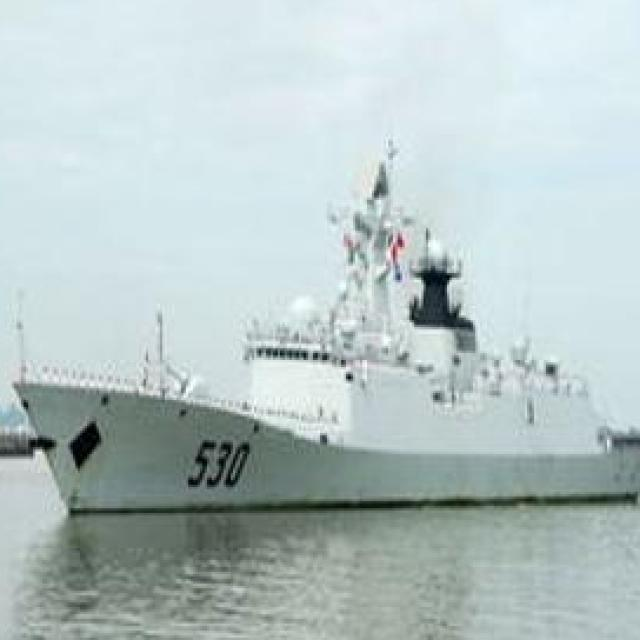navalvessels: (14, 146, 640, 520)
